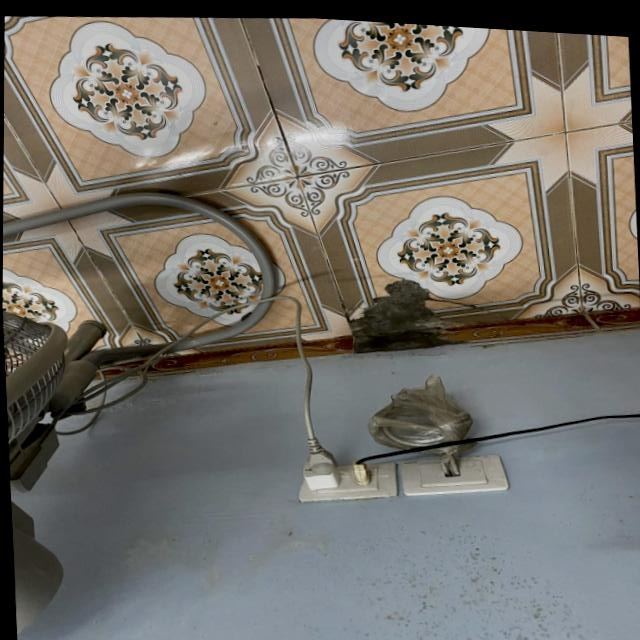outlet: (399, 448, 510, 503), (297, 456, 399, 509)
